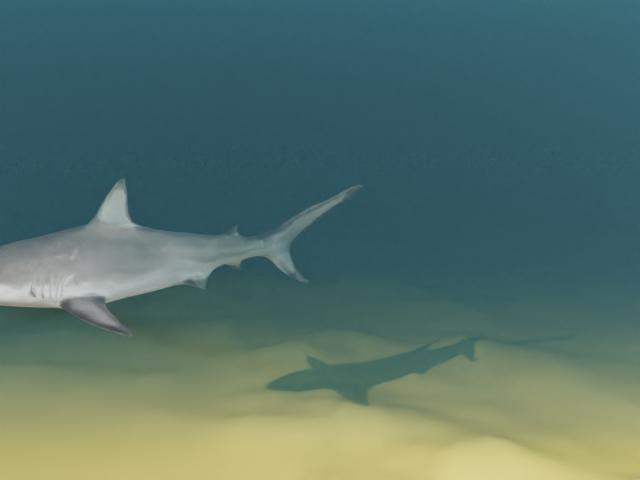Carribean Shark.001: (0, 178, 363, 336)
